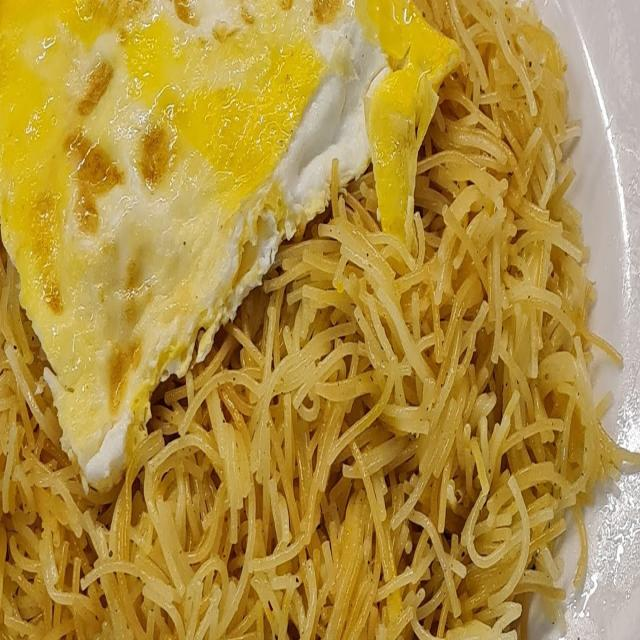Balaleet: (5, 0, 599, 640)
